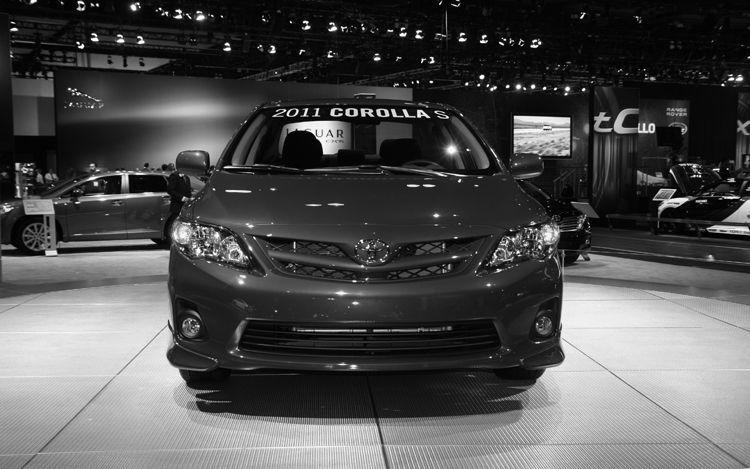car: (142, 88, 583, 409)
